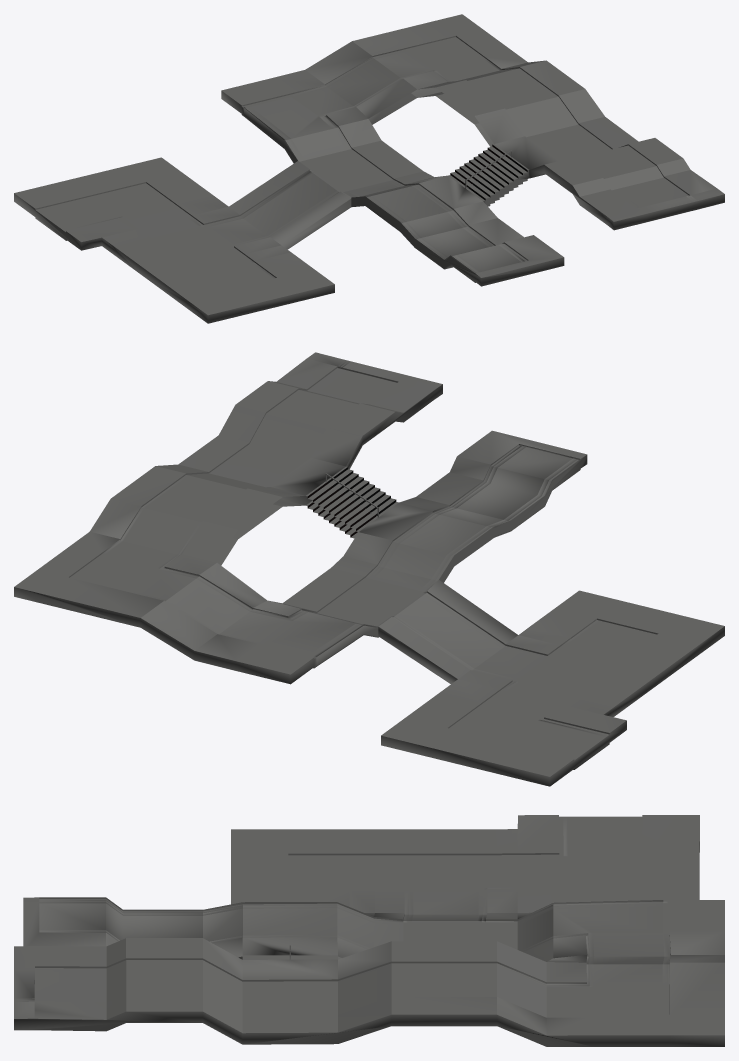
The model's file is LVLDG RUAS GERAIS SEPARADAS TEST 2- PALLARO.fbx.
The picture shows the model from 3 angles, top to bottom: view 1: azimuth 30°, elevation 25°; view 2: azimuth 150°, elevation 25°; view 3: azimuth 270°, elevation 25°; orthographic projection. The views are drawn at different scales.
Parts seen in each view (by area): view 1: ruas feitas.002; view 2: ruas feitas.002; view 3: ruas feitas.002.
Part boxes in pixels (x1,y1,x2,y2): ruas feitas.002: (14, 14, 724, 323); ruas feitas.002: (14, 352, 724, 786); ruas feitas.002: (14, 815, 724, 1046).
Bounding box in the file's own units: 1040 × 192 × 1034.
